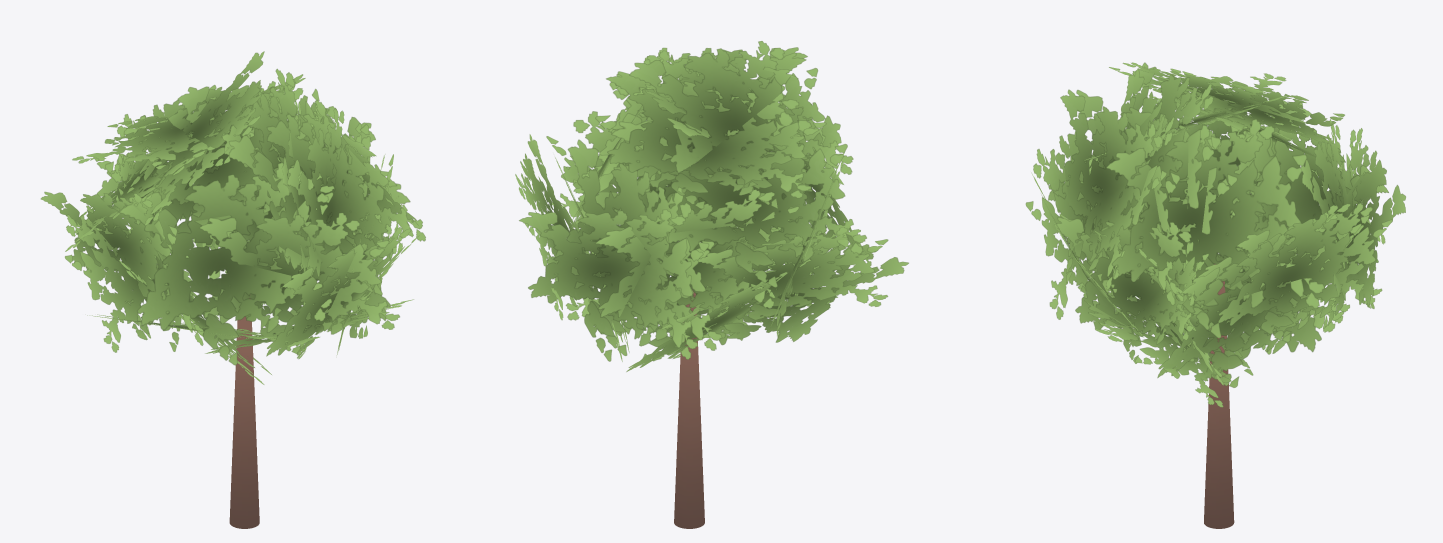
File: tree.glb
The picture shows the model from 3 angles, left to right: view 1: azimuth 30°, elevation 25°; view 2: azimuth 150°, elevation 25°; view 3: azimuth 270°, elevation 25°; orthographic projection. The views are drawn at different scales.
Parts seen in each view (by area): view 1: Leaves, Trunk; view 2: Leaves, Trunk; view 3: Leaves, Trunk.
Boxes of the visible parts, x1,y1,x2,y2 form: Leaves: [40, 51, 425, 384]; Trunk: [229, 298, 259, 528]; Leaves: [515, 41, 908, 371]; Trunk: [674, 290, 704, 528]; Leaves: [1025, 62, 1405, 407]; Trunk: [1204, 264, 1234, 528].
Size of the model in its own units: 3.04 by 3.48 by 2.87.
2 materials, 2 textured.
